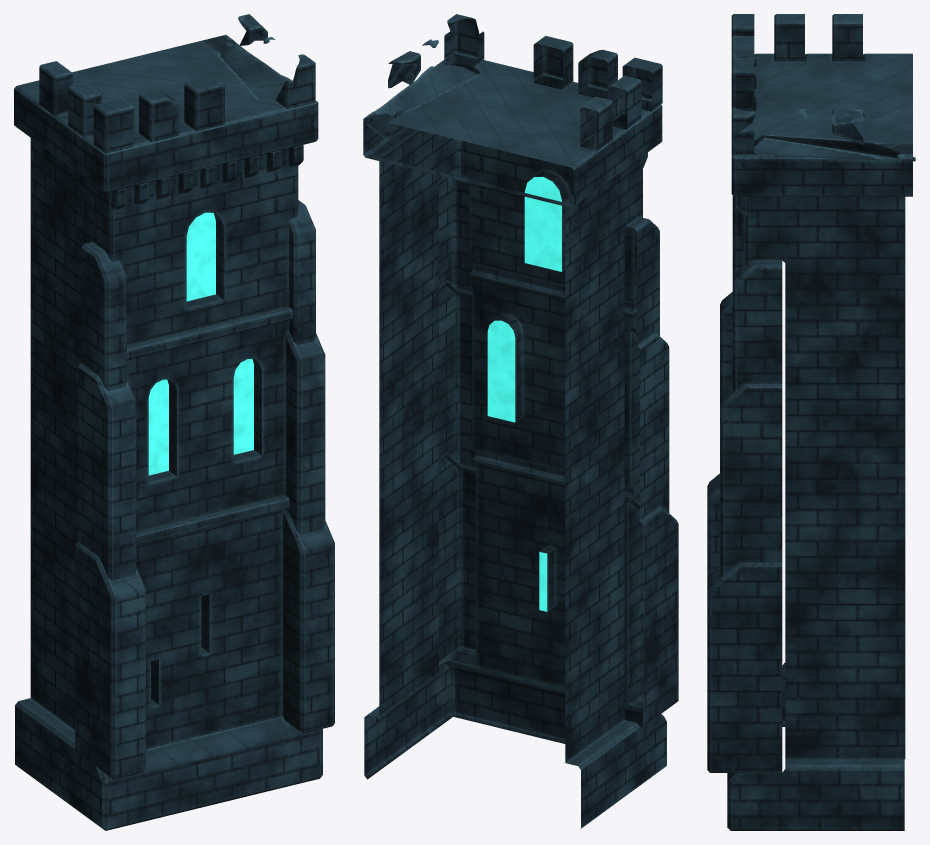
File: BG_Tower_A.fbx
The picture shows the model from 3 angles, left to right: view 1: azimuth 30°, elevation 25°; view 2: azimuth 150°, elevation 25°; view 3: azimuth 270°, elevation 25°; orthographic projection.
Parts seen in each view (by area): view 1: BG_Tower_A; view 2: BG_Tower_A; view 3: BG_Tower_A.
Boxes of the visible parts, x1,y1,x2,y2 form: BG_Tower_A: (14, 14, 334, 830); BG_Tower_A: (363, 14, 678, 828); BG_Tower_A: (707, 14, 915, 830).
Bounding box in the file's own units: 7.1 × 21.75 × 5.75.
